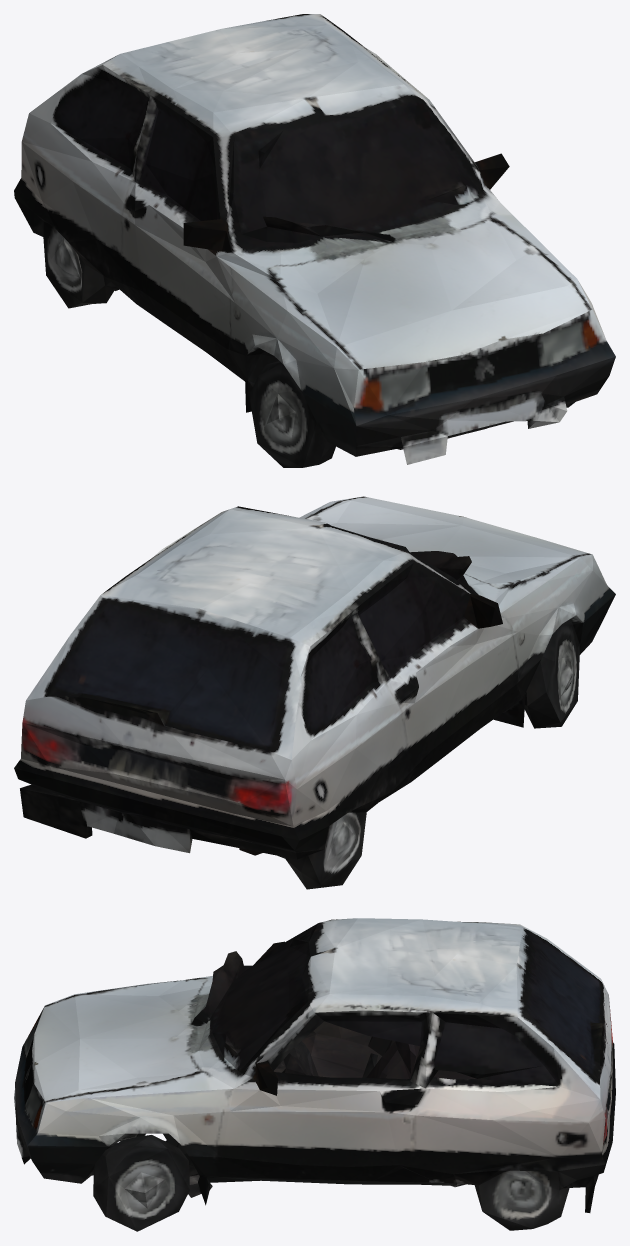
The model's file is oltcit_lod.fbx.
The picture shows the model from 3 angles, top to bottom: view 1: azimuth 30°, elevation 25°; view 2: azimuth 150°, elevation 25°; view 3: azimuth 270°, elevation 25°; orthographic projection. The views are drawn at different scales.
Visible parts, largest first — view 1: Mesh_0; view 2: Mesh_0; view 3: Mesh_0.
Part boxes in pixels (x1,y1,x2,y2): Mesh_0: (14, 14, 615, 467); Mesh_0: (14, 496, 615, 889); Mesh_0: (14, 918, 615, 1231).
Bounding box in the file's own units: 1.85 × 1.43 × 3.46.
Materials: 1 (1 with a texture image).
